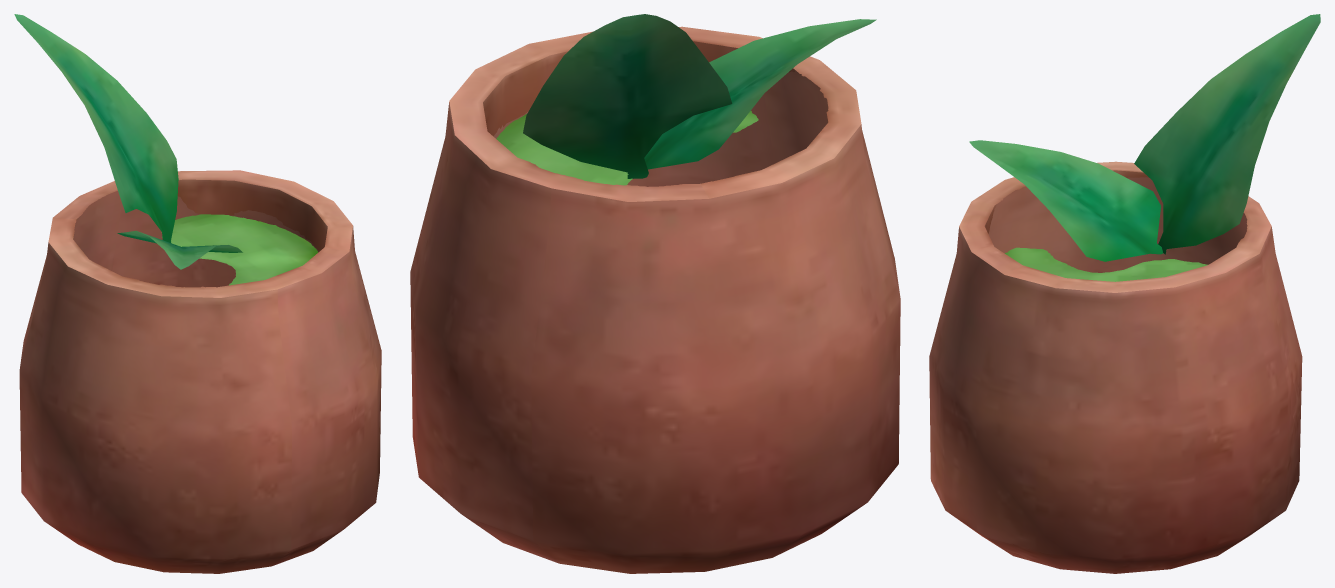
The picture shows the model from 3 angles, left to right: view 1: azimuth 30°, elevation 25°; view 2: azimuth 150°, elevation 25°; view 3: azimuth 270°, elevation 25°; orthographic projection. The views are drawn at different scales.
Visible parts, largest first — view 1: SM_Herbal_Tea_01_LOD0; view 2: SM_Herbal_Tea_01_LOD0; view 3: SM_Herbal_Tea_01_LOD0.
Boxes of the visible parts, <box> form: SM_Herbal_Tea_01_LOD0: <box>14,14,381,573</box>; SM_Herbal_Tea_01_LOD0: <box>410,14,900,573</box>; SM_Herbal_Tea_01_LOD0: <box>929,14,1320,573</box>.
Bounding box in the file's own units: 0.1818 × 0.2456 × 0.191.
Materials: 1 (1 with a texture image).
